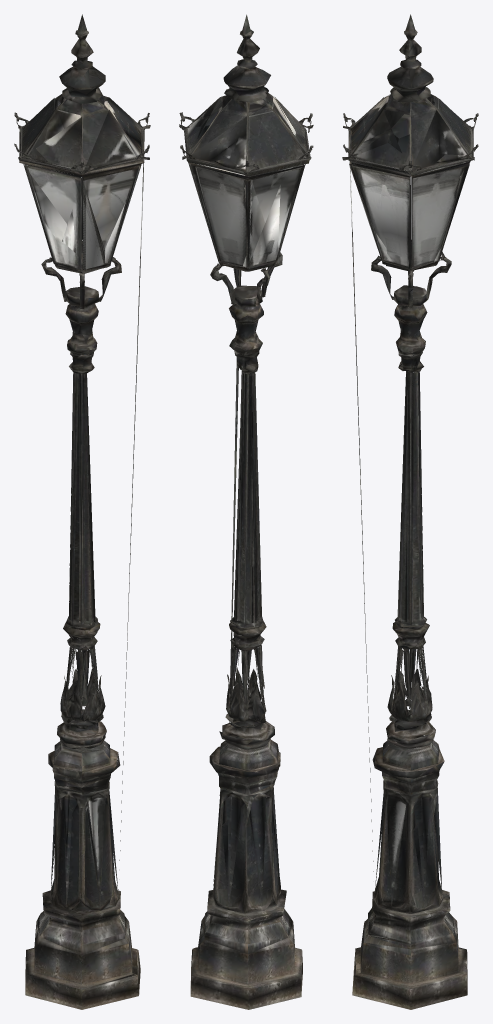
The model's file is street-lamp.glb.
The picture shows the model from 3 angles, left to right: view 1: azimuth 90°, elevation 25°; view 2: azimuth 210°, elevation 25°; view 3: azimuth 270°, elevation 25°; orthographic projection.
Parts seen in each view (by area): view 1: StreetLamp; view 2: StreetLamp; view 3: StreetLamp.
Boxes of the visible parts, x1,y1,x2,y2 form: StreetLamp: [14, 14, 150, 1009]; StreetLamp: [179, 14, 313, 1009]; StreetLamp: [342, 14, 478, 1009].
Bounding box in the file's own units: 0.4616 × 3.2 × 0.4079.
Materials: 1 (1 with a texture image).
